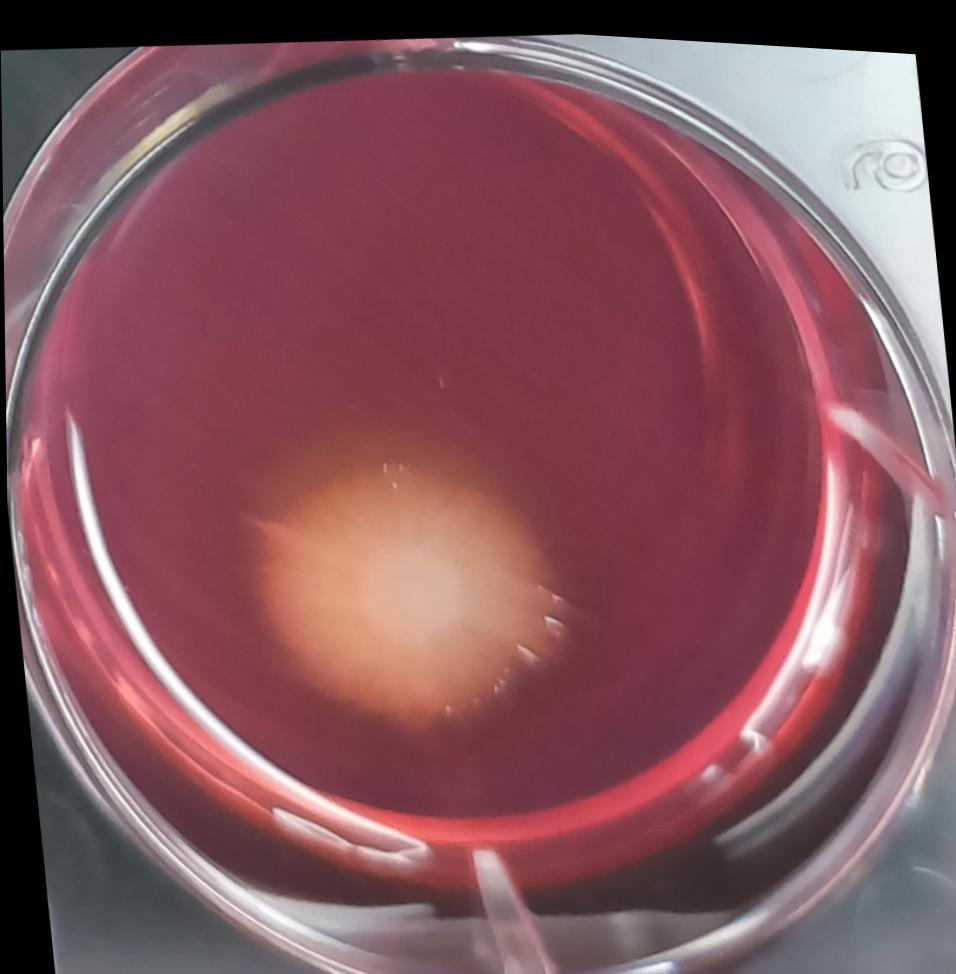vproteolyticus: (168, 366, 624, 796)
